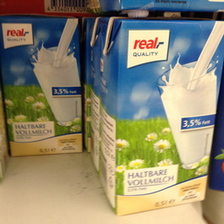milk: (100, 14, 224, 217), (1, 16, 85, 156)
